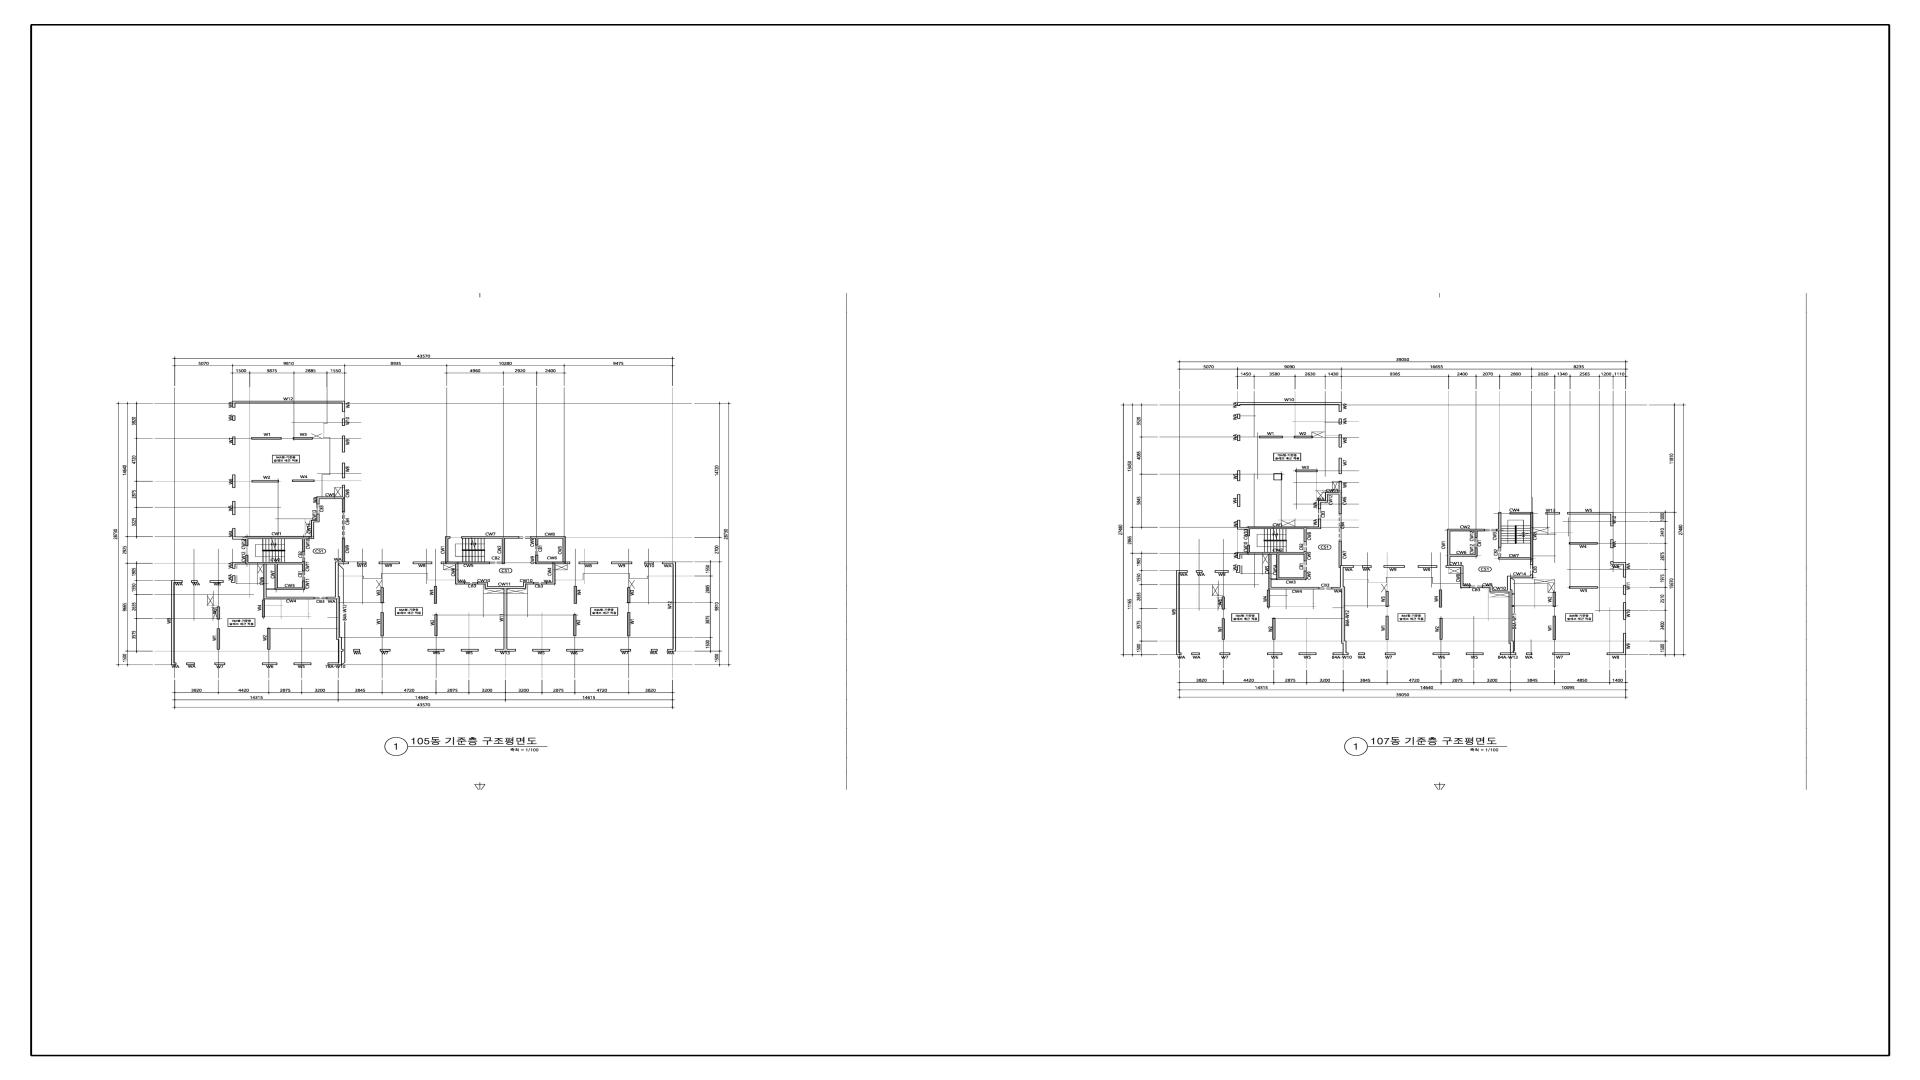wall: (232, 401, 345, 411), (1237, 402, 1342, 411), (1241, 526, 1321, 537), (327, 562, 349, 599), (667, 564, 676, 651), (274, 564, 305, 589), (1276, 555, 1307, 580), (235, 537, 311, 546), (232, 562, 305, 571), (1568, 512, 1614, 526), (1445, 566, 1470, 588), (1237, 551, 1307, 559), (316, 485, 345, 504), (1482, 576, 1513, 592), (1176, 572, 1182, 655), (1338, 541, 1354, 568), (171, 583, 177, 665), (1607, 633, 1626, 655), (1319, 492, 1342, 509), (327, 640, 343, 665), (477, 582, 534, 588), (530, 537, 566, 546), (535, 555, 570, 564), (1341, 589, 1346, 644), (1332, 568, 1345, 589), (1509, 592, 1514, 644), (1451, 547, 1478, 556), (504, 588, 508, 649), (336, 599, 342, 640), (455, 564, 465, 584), (1530, 514, 1534, 564), (1333, 644, 1349, 655), (1497, 512, 1502, 547), (546, 564, 555, 584), (446, 537, 451, 562), (440, 562, 489, 564), (1271, 587, 1320, 589), (266, 597, 314, 600), (311, 520, 316, 539), (1448, 529, 1485, 531), (264, 564, 266, 600), (342, 538, 345, 562), (1269, 555, 1271, 589), (1448, 531, 1451, 566), (1511, 575, 1534, 579), (216, 629, 220, 650), (1338, 495, 1342, 514), (462, 537, 520, 538), (1569, 542, 1598, 545), (574, 585, 578, 604), (1439, 589, 1443, 608), (252, 480, 278, 483), (502, 538, 505, 564), (342, 435, 345, 452), (1338, 458, 1342, 475), (628, 612, 630, 637), (381, 612, 384, 637), (342, 463, 345, 479), (563, 538, 566, 562), (1259, 435, 1283, 438), (1386, 616, 1389, 640), (1510, 512, 1534, 514), (1553, 616, 1556, 640), (268, 628, 270, 650), (1295, 469, 1317, 472), (232, 501, 236, 516), (612, 562, 633, 564), (574, 615, 576, 636), (378, 562, 400, 564), (435, 615, 438, 636), (495, 649, 516, 651), (1222, 618, 1225, 640), (1273, 618, 1275, 640), (1383, 566, 1404, 568), (1440, 618, 1443, 640), (579, 562, 599, 564), (232, 475, 236, 488), (342, 498, 345, 512), (216, 607, 220, 620), (413, 562, 433, 564), (1294, 435, 1313, 438), (1338, 434, 1342, 447), (1274, 473, 1282, 480), (1418, 566, 1437, 568), (434, 585, 436, 604), (1267, 589, 1270, 608), (1552, 653, 1571, 655), (232, 527, 236, 539), (1237, 495, 1241, 506), (262, 600, 265, 617), (294, 662, 311, 665), (427, 649, 444, 651), (462, 649, 479, 651), (533, 649, 550, 651), (566, 649, 583, 651), (1299, 653, 1316, 655), (1432, 653, 1449, 655), (1466, 653, 1484, 655), (1623, 603, 1626, 620), (628, 587, 630, 603), (231, 575, 236, 583), (381, 587, 384, 603), (1237, 471, 1241, 481), (1237, 520, 1241, 530), (1338, 481, 1342, 492), (1267, 653, 1283, 655), (1386, 591, 1389, 607), (1501, 653, 1516, 655), (1610, 562, 1626, 564), (1498, 558, 1530, 559), (252, 438, 282, 439), (662, 562, 676, 564), (210, 580, 224, 583), (262, 662, 277, 665), (1545, 512, 1560, 514), (1215, 570, 1229, 572), (1569, 587, 1598, 588), (1553, 592, 1556, 607), (232, 436, 236, 446), (1610, 539, 1614, 549), (1510, 644, 1514, 653), (1304, 529, 1307, 542), (1236, 566, 1241, 572), (1222, 596, 1225, 609), (1623, 564, 1626, 578), (342, 418, 345, 426), (302, 539, 305, 551), (1176, 570, 1188, 572), (291, 480, 314, 481), (621, 649, 632, 651), (171, 580, 182, 583), (380, 649, 390, 651), (1220, 653, 1230, 655), (1385, 653, 1395, 655), (293, 438, 313, 439), (1338, 418, 1342, 425), (1474, 531, 1478, 538), (645, 562, 654, 564), (186, 662, 195, 665), (357, 562, 367, 564), (1191, 653, 1200, 655), (1362, 566, 1371, 568), (1623, 585, 1626, 595), (232, 415, 236, 421), (316, 514, 319, 522), (1237, 414, 1241, 419), (1237, 435, 1241, 440), (1319, 518, 1321, 526), (1247, 545, 1250, 553), (651, 649, 658, 651), (245, 555, 248, 562), (191, 580, 198, 583), (353, 649, 360, 651), (1304, 555, 1307, 562), (1196, 570, 1203, 572), (1358, 653, 1365, 655), (1526, 653, 1532, 655), (215, 663, 225, 665)
